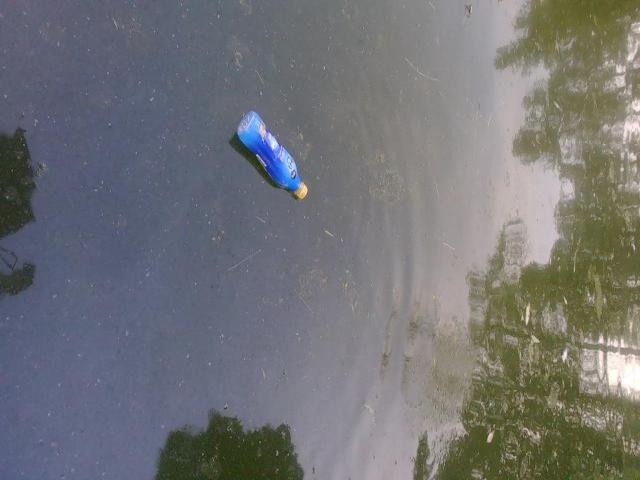Bottle: (227, 105, 319, 207)
